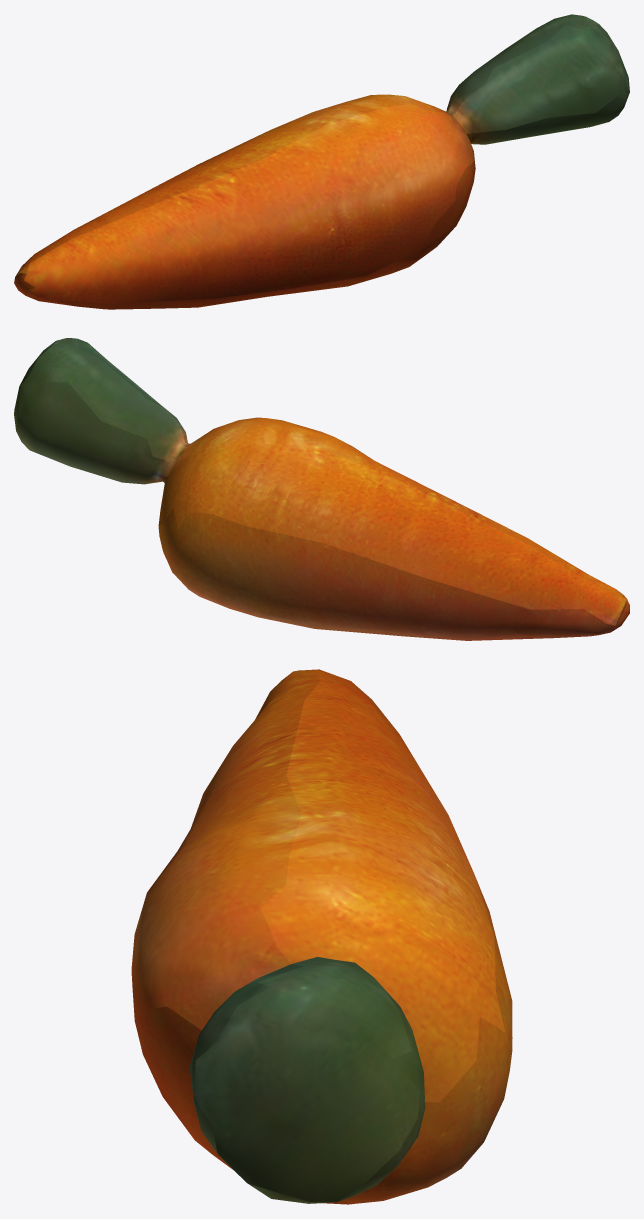
The picture shows the model from 3 angles, top to bottom: view 1: azimuth 30°, elevation 25°; view 2: azimuth 150°, elevation 25°; view 3: azimuth 270°, elevation 25°; orthographic projection. The views are drawn at different scales.
Parts seen in each view (by area): view 1: geometry_0; view 2: geometry_0; view 3: geometry_0.
Boxes of the visible parts, x1,y1,x2,y2 form: geometry_0: (14, 14, 629, 309); geometry_0: (14, 338, 629, 640); geometry_0: (131, 669, 512, 1204).
Bounding box in the file's own units: 0.115 × 0.032 × 0.038.
